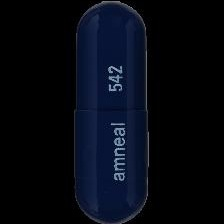53746-542: (0, 0, 224, 224)
